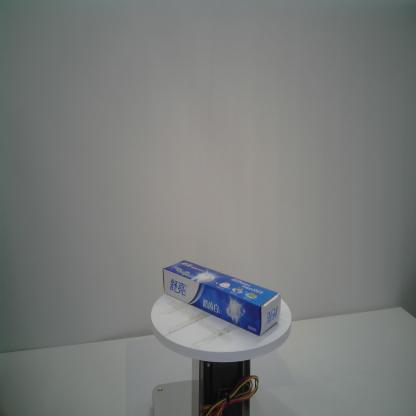Personal Hygiene: (162, 257, 282, 338)
